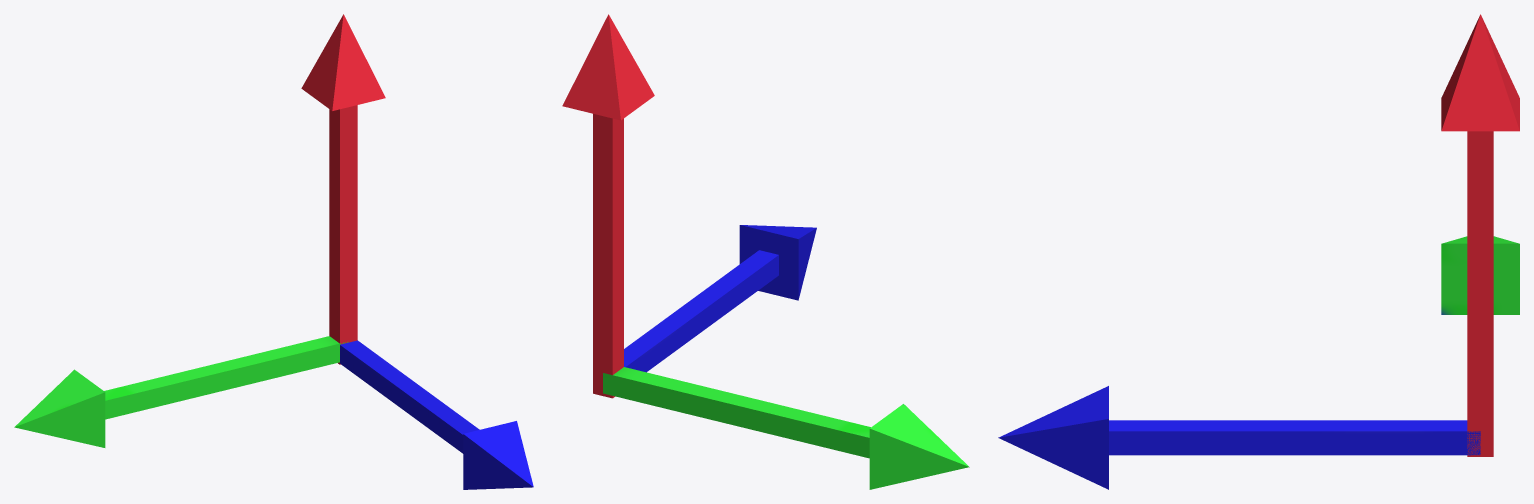
Rendered from axes.obj.
3 views of the same model, side by side, from view 1: azimuth 30°, elevation 25°; view 2: azimuth 150°, elevation 25°; view 3: azimuth 270°, elevation 25° (orthographic). The views are drawn at different scales.
Visible parts, largest first — view 1: Cube_Cube.002; view 2: Cube_Cube.002; view 3: Cube_Cube.002.
Boxes of the visible parts, x1,y1,x2,y2 form: Cube_Cube.002: [14, 14, 533, 489]; Cube_Cube.002: [562, 14, 969, 489]; Cube_Cube.002: [998, 14, 1519, 489].
Size of the model in its own units: 2.48 by 2.41 by 2.48.
